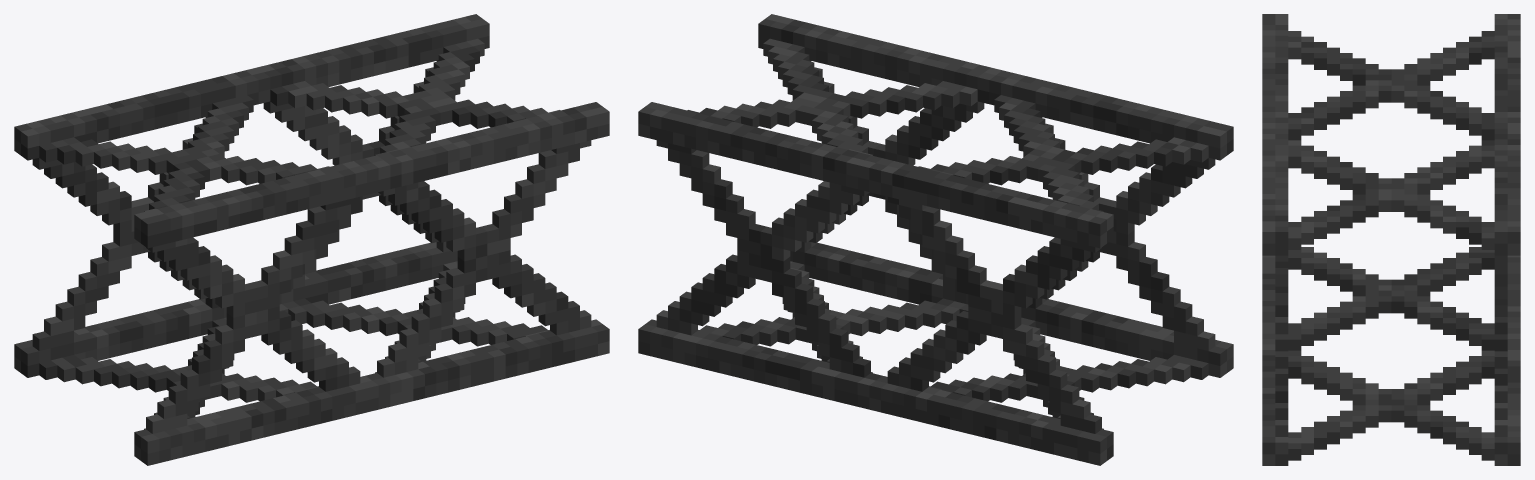
File: Biga_Metal.obj
3 views of the same model, side by side, from view 1: azimuth 30°, elevation 25°; view 2: azimuth 150°, elevation 25°; view 3: azimuth 270°, elevation 25° (orthographic). The views are drawn at different scales.
Size of the model in its own units: 4 by 2 by 2.
1 material, 1 textured.
